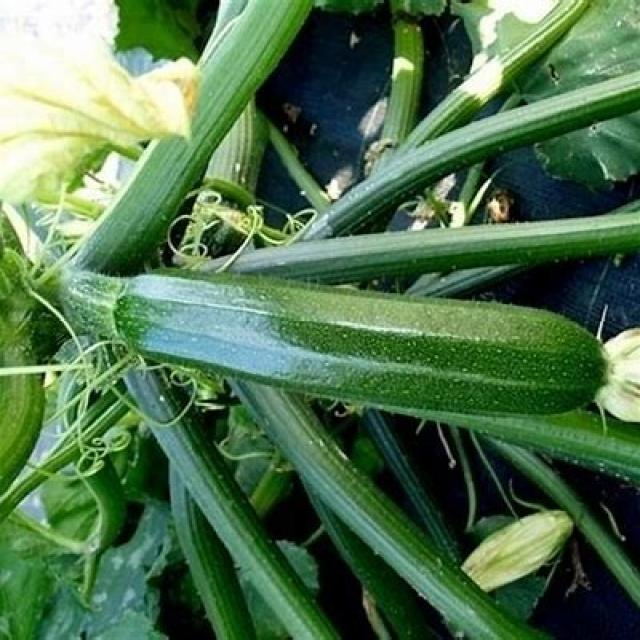Zucchini: (59, 271, 608, 416)
